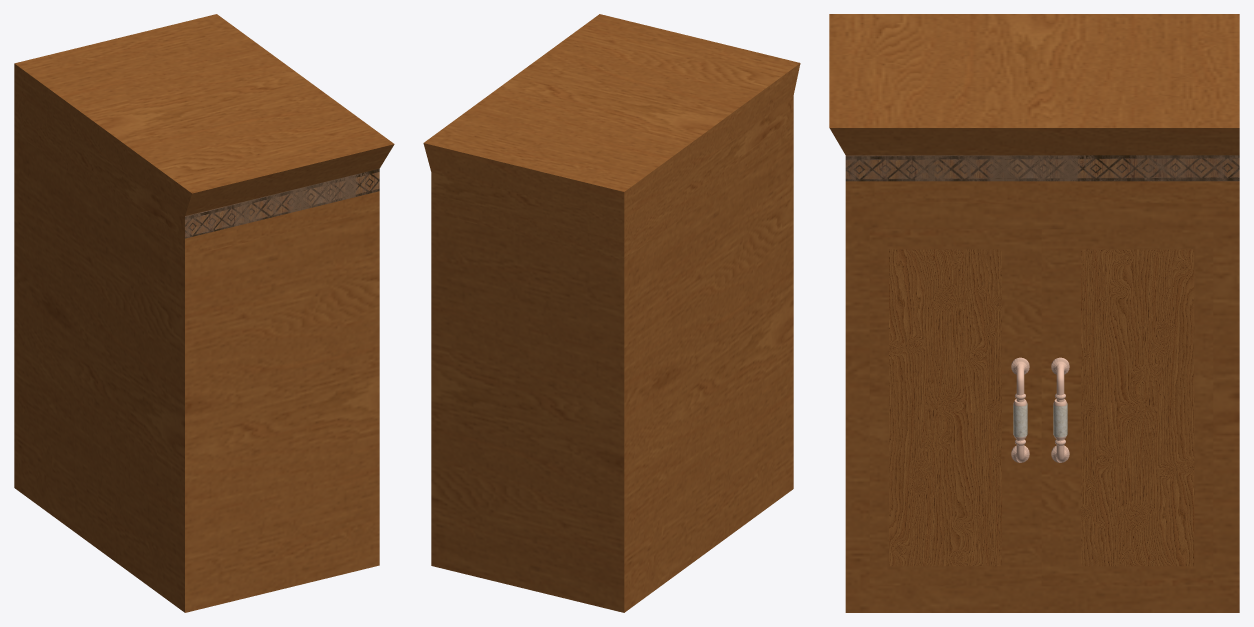
File: TopCabinet_End_L.fbx
3 views of the same model, side by side, from view 1: azimuth 30°, elevation 25°; view 2: azimuth 150°, elevation 25°; view 3: azimuth 270°, elevation 25° (orthographic). The views are drawn at different scales.
Visible parts, largest first — view 1: pCube178, Top_Edge; view 2: pCube178, Top_Edge; view 3: Top_Edge, pCube191, pCube190, pCube178, pCylinder106, pCylinder105.
Boxes of the visible parts, box(x1,y1,x2,y2) form: pCube178: box(14, 132, 379, 612); Top_Edge: box(14, 14, 394, 256); pCube178: box(431, 136, 793, 612); Top_Edge: box(423, 14, 800, 259); Top_Edge: box(829, 14, 1239, 202); pCube191: box(869, 229, 1041, 586); pCube190: box(1041, 229, 1213, 586); pCube178: box(845, 202, 1239, 612); pCylinder106: box(1011, 357, 1029, 462); pCylinder105: box(1051, 357, 1069, 462).
Bounding box in the file's own units: 0.618 × 1.14 × 0.8661.
